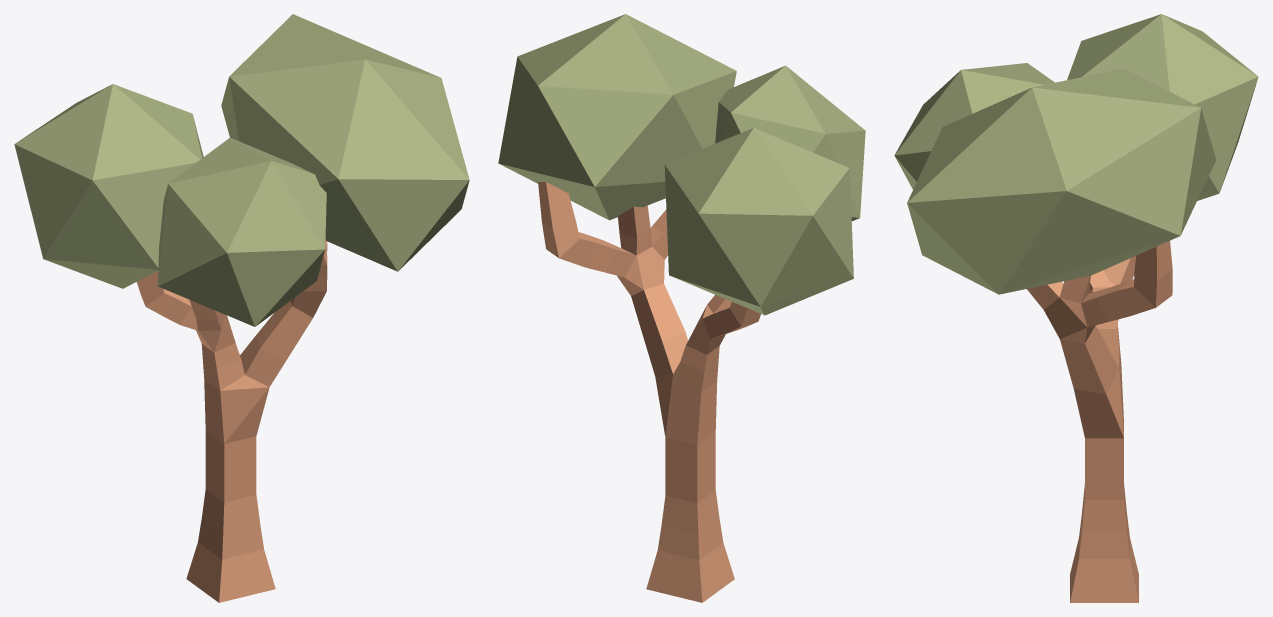
The model's file is deserttree_1.fbx.
3 renders of one model, left to right at view 1: azimuth 30°, elevation 25°; view 2: azimuth 150°, elevation 25°; view 3: azimuth 270°, elevation 25°, orthographic. The views are drawn at different scales.
Visible parts, largest first — view 1: desertree2; view 2: desertree2; view 3: desertree2.
Boxes of the visible parts, <box> form: desertree2: <box>14,14,469,602</box>; desertree2: <box>498,14,865,602</box>; desertree2: <box>894,14,1258,602</box>.
Bounding box in the file's own units: 3.8 × 3.09 × 5.17.
